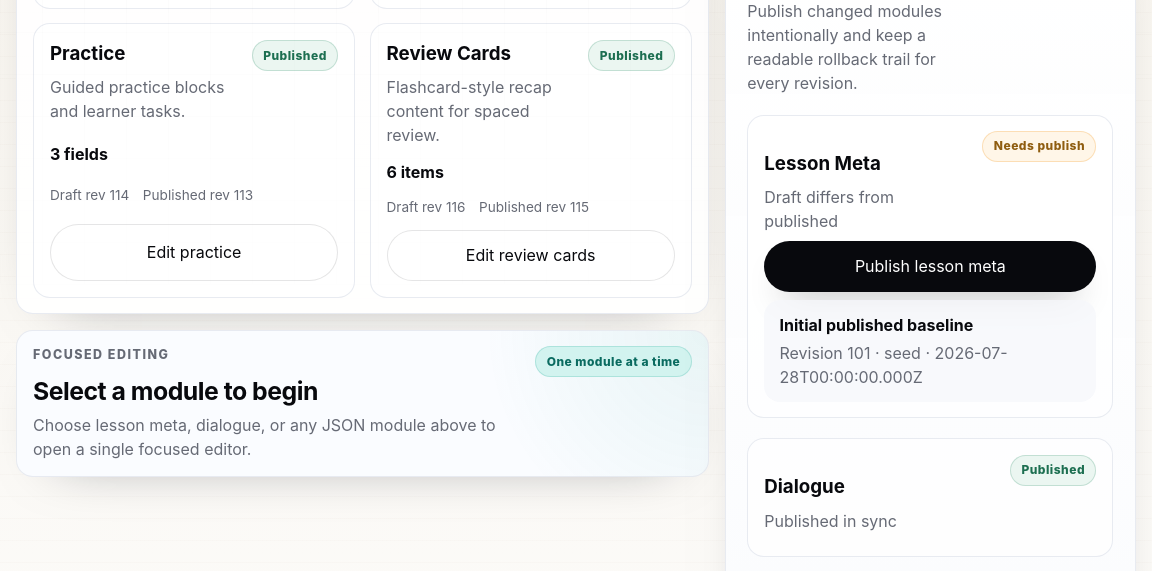
AdminLessonEditorPage › renders practice as grouped content sections instead of a raw JSON textarea
(page scrolled)
Click the button "Edit practice" at (194, 252), box 50,224 -> 338,281
(page scrolled)
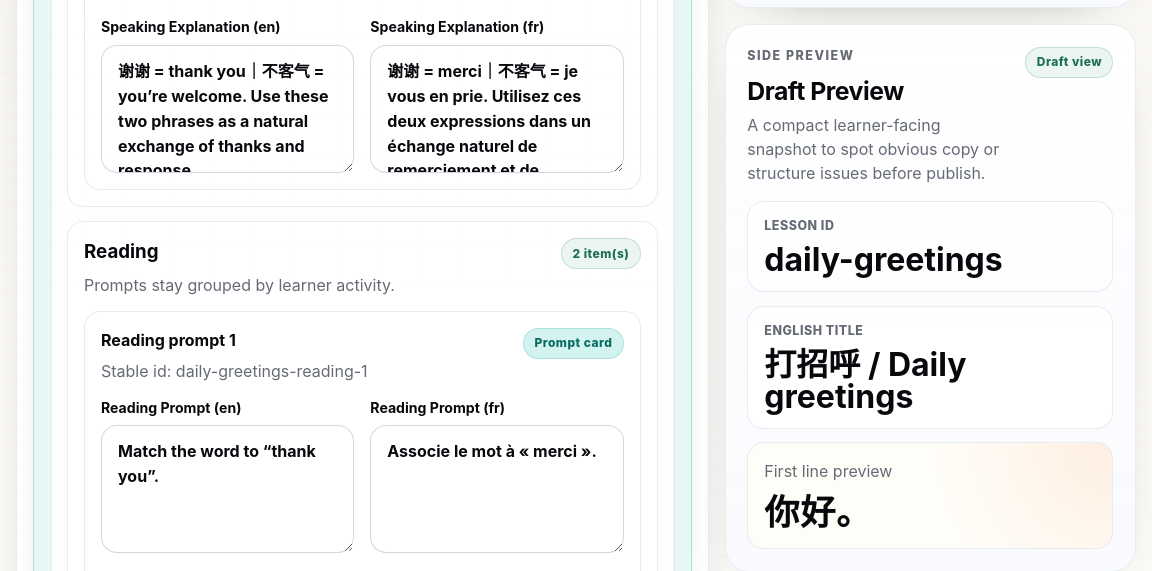
Check: the heading "Reading" is shown, box 84,240 -> 159,263
